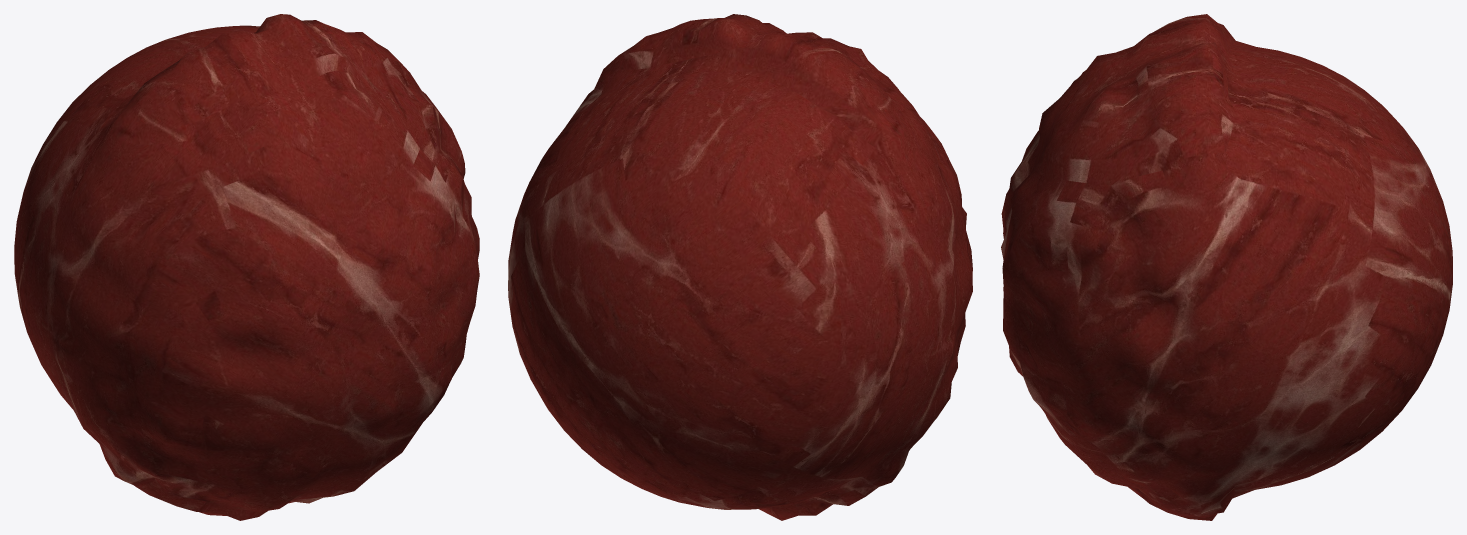
Rendered from Brain_Low.fbx.
3 views of the same model, side by side, from view 1: azimuth 30°, elevation 25°; view 2: azimuth 150°, elevation 25°; view 3: azimuth 270°, elevation 25° (orthographic). The views are drawn at different scales.
Visible parts, largest first — view 1: Low; view 2: Low; view 3: Low.
Boxes of the visible parts, x1,y1,x2,y2 form: Low: (14, 14, 479, 520); Low: (508, 14, 972, 520); Low: (1001, 14, 1452, 520).
Size of the model in its own units: 101 by 118 by 102.
1 material, 1 textured.
